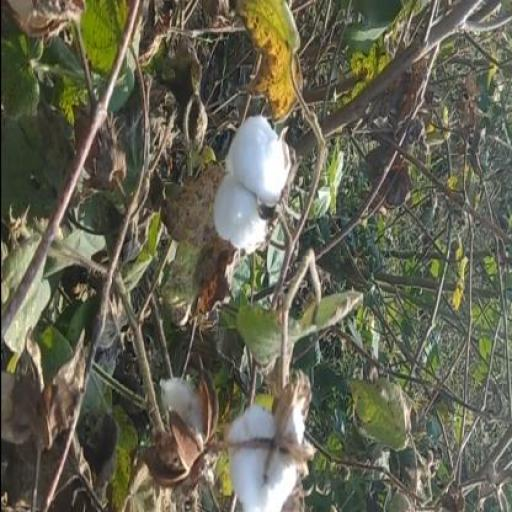cotton_ready: (188, 102, 316, 278)
